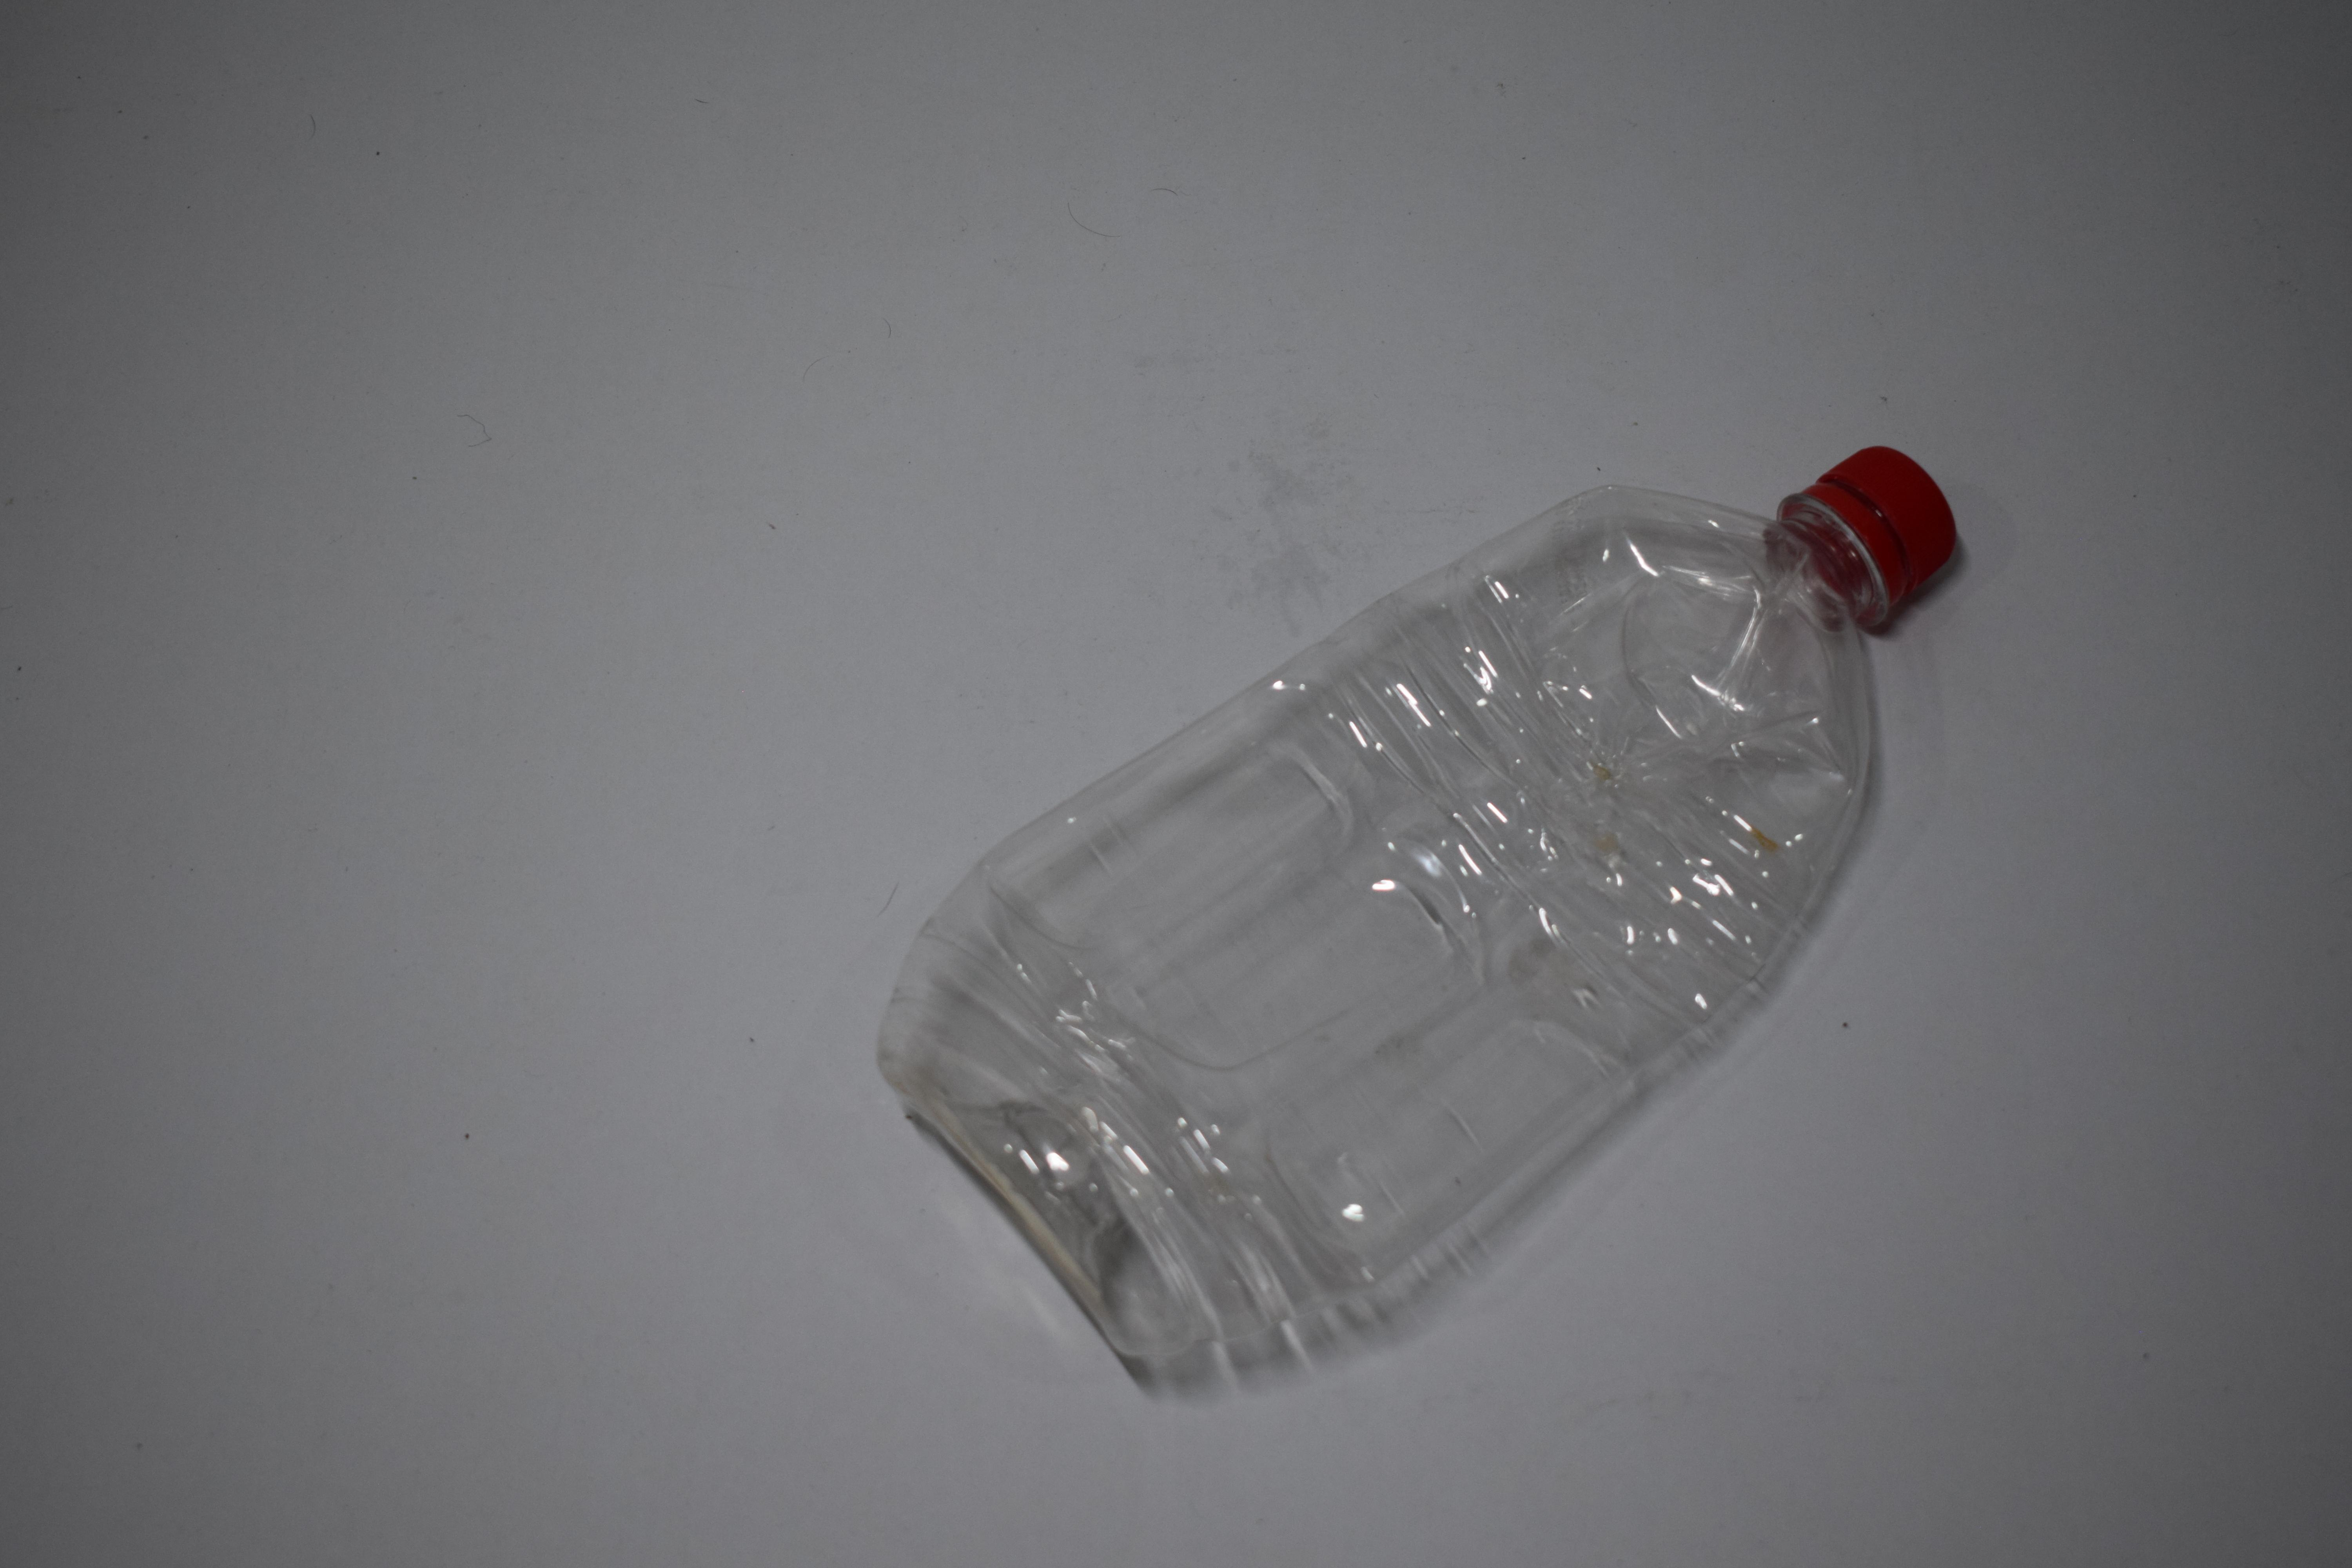bottle: (866, 0, 1964, 598)
